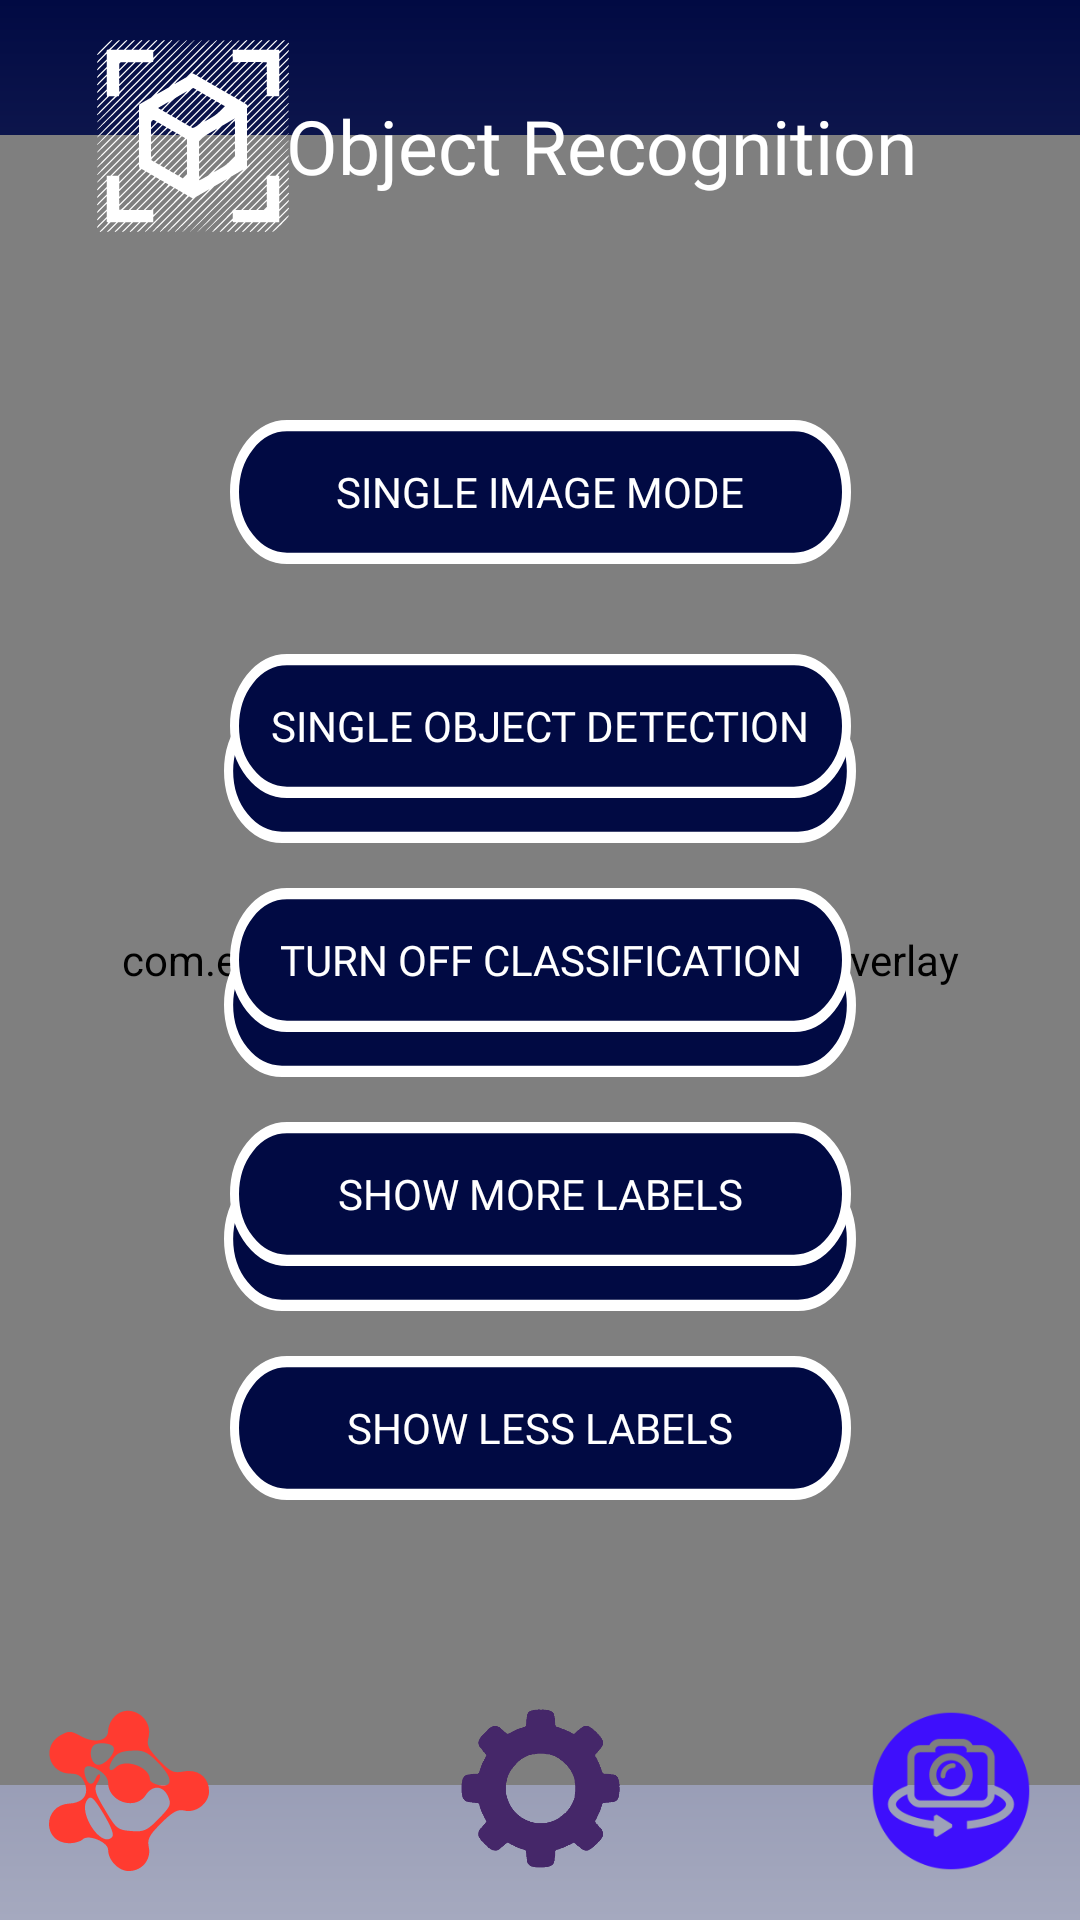

Icon click points for this 1080 x 1920 phone screenshot, format point (x, y):
obj activity: point (193, 136)
settings cog: point (538, 1791)
switch camera: point (951, 1791)
